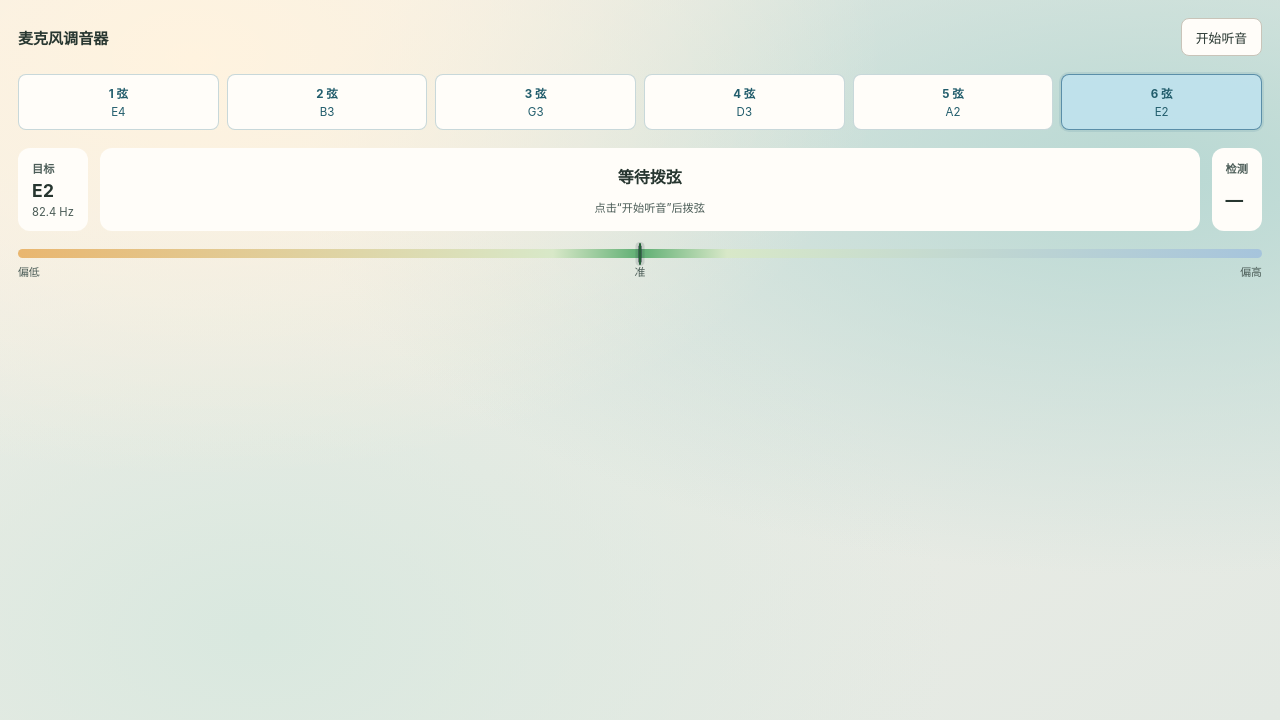
Test: GuitarTuner › automatically targets the detected string without a prior click
What coordinates should you click on to do the following:
click the button "开始听音"
I would click on:
 (1221, 37)
Its box is x1=1181 y1=18 x2=1262 y2=56.
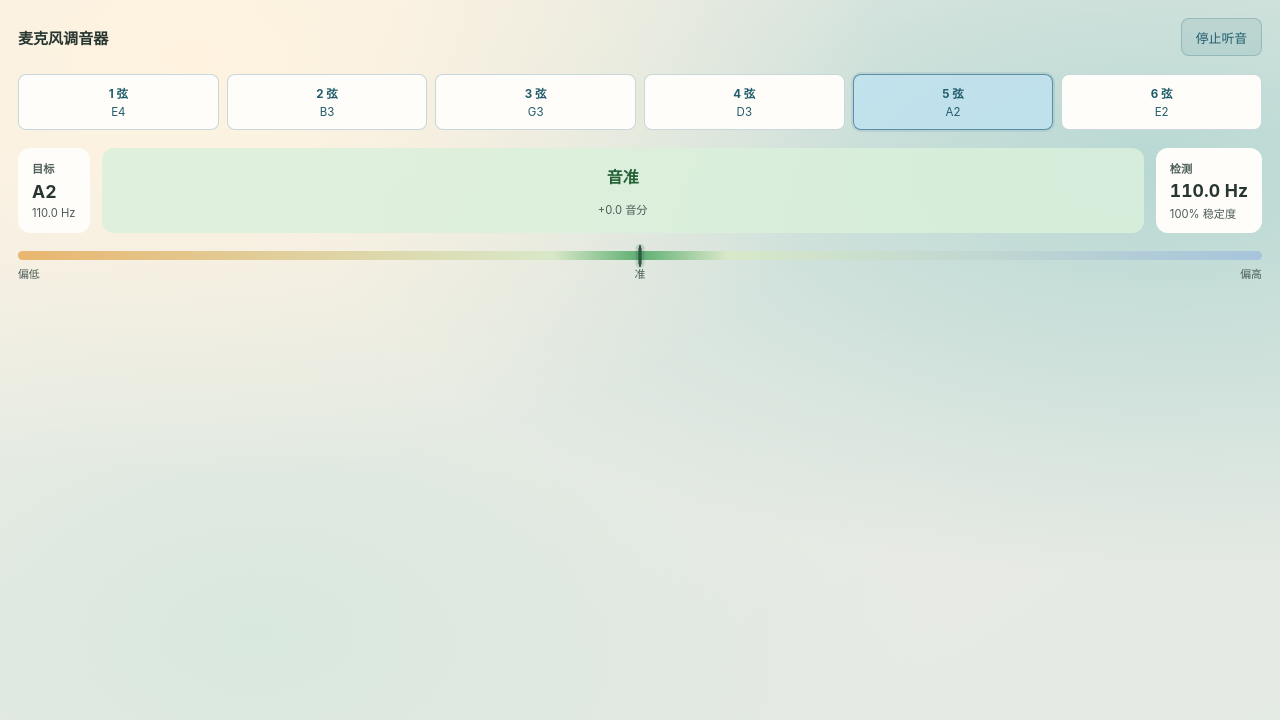
Check: the button "停止听音" is shown, box x1=1181 y1=18 x2=1262 y2=56
